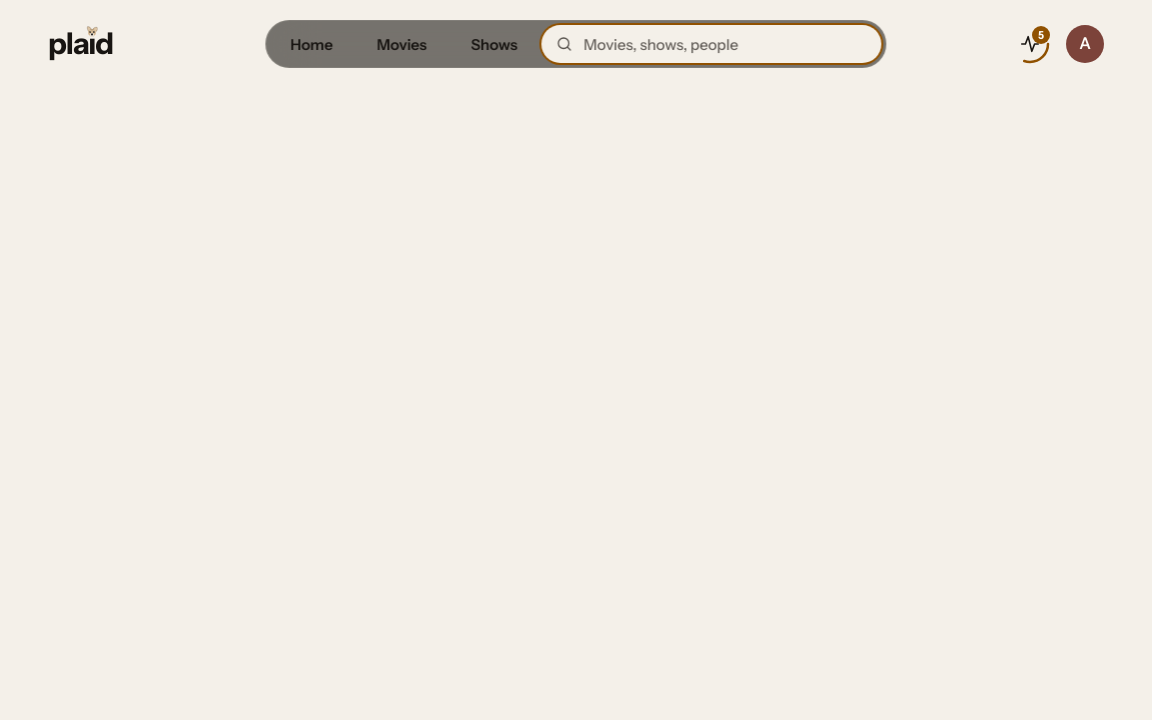
Scenario: activity menu › lists what the server is doing, with progress
Click the button named "Activity: 5 tasks running": (1030, 44) [1010,24,1050,64]
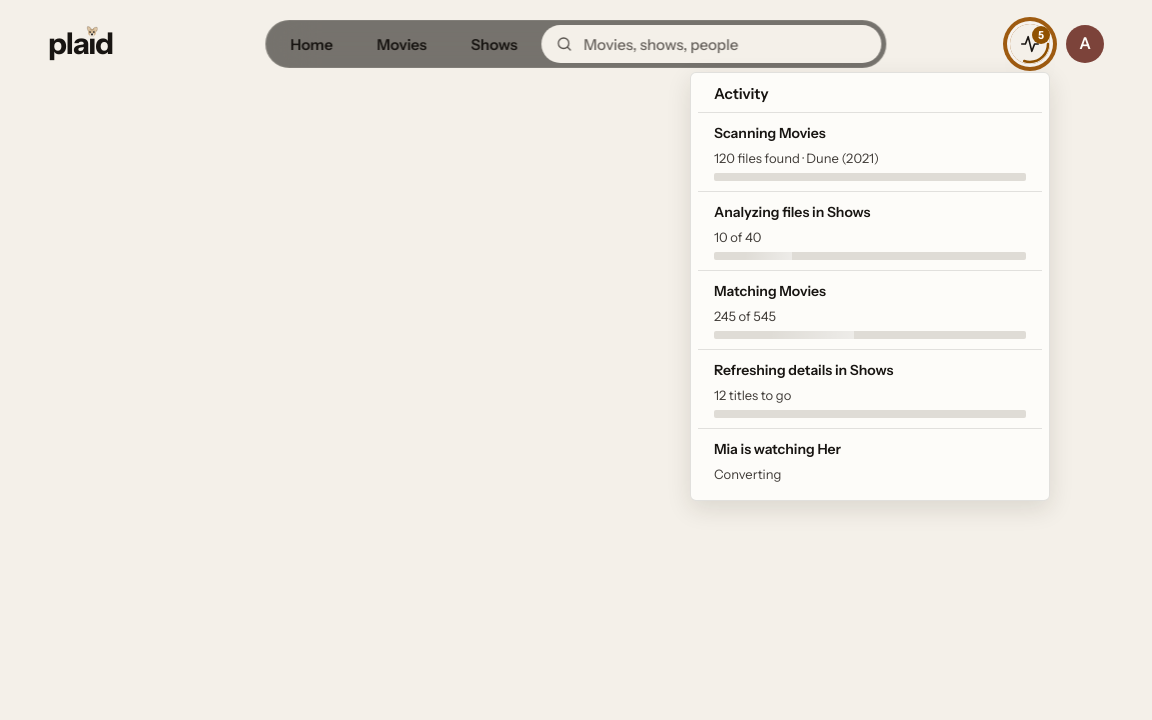
Result: the text "Scanning Movies" is shown at [714,124,826,142]
Result: the text "120 files found · Dune (2021)" is shown at [714,150,879,166]
Result: the text "Analyzing files in Shows" is shown at [714,203,870,221]
